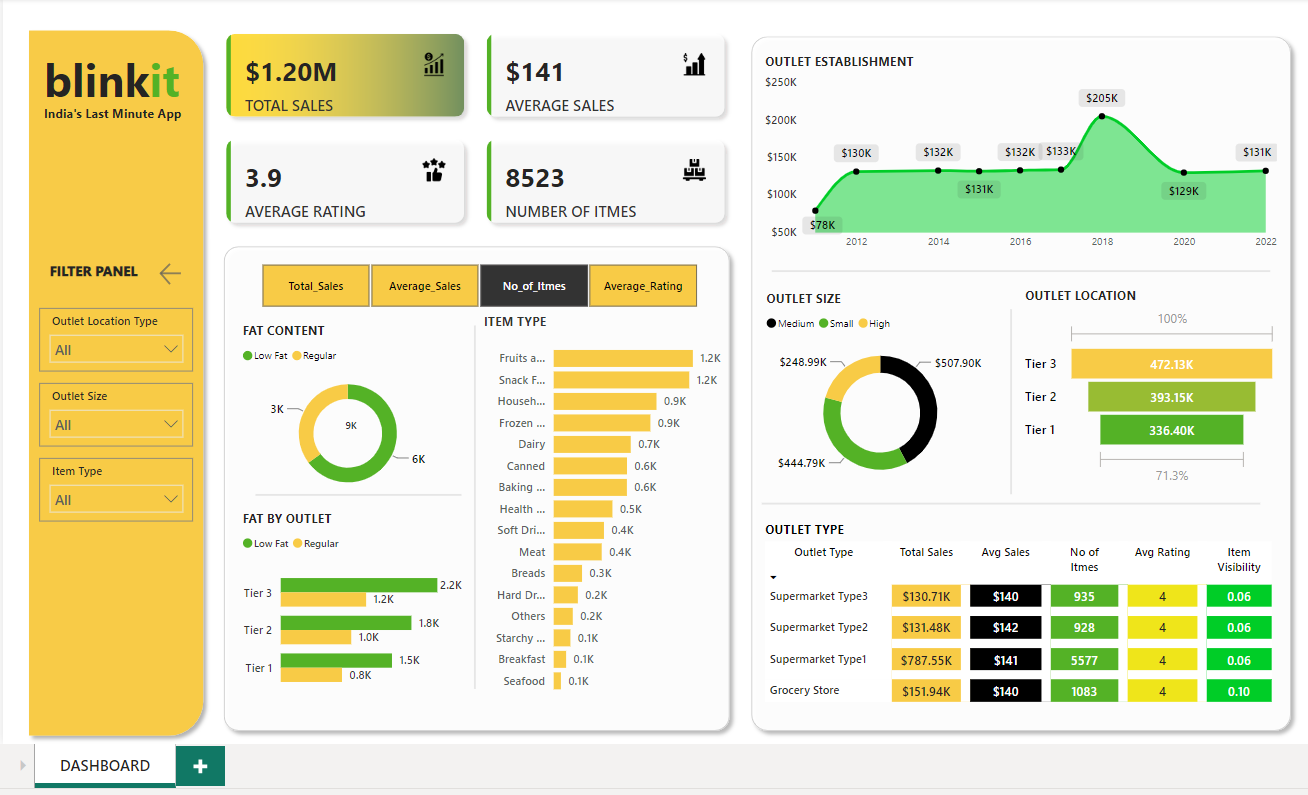

What the dashboard file says about the page in this screenshot:
{"tool":"powerbi","page":{"name":"DASHBOARD","canvas":[1400,800],"ordinal":0},"visuals":[{"type":"shape","box":[18.8,25.5,205,774.5],"z":0},{"type":"textbox","box":[38.9,109.9,164.8,30.8],"z":1000},{"type":"textbox","box":[38.9,49.6,164.8,73.7],"z":2000},{"type":"cardVisual","fields":{"Data":["BlinkIT Grocery Data.Total_Sales","BlinkIT Grocery Data.Average_Sales","BlinkIT Grocery Data.Average_Rating","BlinkIT Grocery Data.No_of_Itmes"]},"box":[222.4,21.4,569.5,237.2],"z":3000},{"type":"shape","box":[227.8,257.3,560.1,537.4],"z":4000},{"type":"donutChart","title":"FAT CONTENT","fields":{"Y":["BlinkIT Grocery Data.No_of_Itmes"],"Category":["BlinkIT Grocery Data.Item Fat Content"]},"box":[251.9,347.1,235.8,194.3],"z":5000},{"type":"slicer","fields":{"Values":["Metrics.Metrics"]},"box":[251.9,278.7,515.9,59],"z":6000},{"type":"cardVisual","fields":{"Data":["BlinkIT Grocery Data.No_of_Itmes"]},"box":[343,432.8,60.3,48.2],"z":7000},{"type":"clusteredBarChart","title":"FAT BY OUTLET","fields":{"Y":["BlinkIT Grocery Data.No_of_Itmes"],"Category":["BlinkIT Grocery Data.Outlet Location Type"],"Series":["BlinkIT Grocery Data.Item Fat Content"]},"box":[251.9,548.1,245.2,207.7],"z":8000},{"type":"shape","box":[270.7,517.3,221.1,30.8],"z":9000},{"type":"shape","box":[491.8,351.1,28.1,389.9],"z":10000},{"type":"barChart","title":"ITEM TYPE","fields":{"Y":["BlinkIT Grocery Data.No_of_Itmes"],"Category":["BlinkIT Grocery Data.Item Type"]},"box":[510.6,337.7,266.7,418.1],"z":11000},{"type":"shape","box":[793.3,32.2,596.3,762.5],"z":12000},{"type":"areaChart","title":"OUTLET ESTABLISHMENT","fields":{"Category":["BlinkIT Grocery Data.Outlet Establishment Year"],"Y":["BlinkIT Grocery Data.Total_Sales"]},"box":[812.1,59,558.8,219.8],"z":13000},{"type":"shape","box":[824.1,277.4,534.7,30.8],"z":14000},{"type":"donutChart","title":"OUTLET SIZE","fields":{"Y":["BlinkIT Grocery Data.Total_Sales"],"Category":["BlinkIT Grocery Data.Outlet Size"]},"box":[813.4,312.2,254.6,219.8],"z":15000},{"type":"funnel","title":"OUTLET LOCATION","fields":{"Category":["BlinkIT Grocery Data.Outlet Location Type"],"Y":["Sum(BlinkIT Grocery Data.Sales)"]},"box":[1090.8,309.5,280.1,218.4],"z":16000},{"type":"shape","box":[1066.7,333.7,28.1,198.3],"z":17000},{"type":"shape","box":[813.4,526.6,534.7,30.8],"z":18000},{"type":"pivotTable","title":"OUTLET TYPE","fields":{"Rows":["BlinkIT Grocery Data.Outlet Type"],"Values":["BlinkIT Grocery Data.Total_Sales","BlinkIT Grocery Data.Average_Sales","BlinkIT Grocery Data.No_of_Itmes","BlinkIT Grocery Data.Average_Rating","Avg(BlinkIT Grocery Data.Item Visibility)"]},"box":[812.1,560.1,558.8,215.7],"z":19000},{"type":"slicer","fields":{"Values":["BlinkIT Grocery Data.Outlet Location Type"]},"box":[38.9,332.3,164.8,68.3],"z":20000},{"type":"slicer","fields":{"Values":["BlinkIT Grocery Data.Outlet Size"]},"box":[38.9,412.7,164.8,68.3],"z":21000},{"type":"slicer","fields":{"Values":["BlinkIT Grocery Data.Item Type"]},"box":[38.9,493.1,164.8,68.3],"z":22000},{"type":"textbox","box":[38.9,277.4,116.6,44.2],"z":23000},{"type":"actionButton","box":[155.4,278.7,48.2,34.8],"z":24000}]}

Visuals, with their boxes on the page's 1400x800 design canvas (x1, y1, x2, y2). These are canvas units, not pixel positions in the 1308x795 screenshot, which may show the page scaled, cropped or inside an application window:
shape: l=19, t=26, r=224, b=800
textbox: l=39, t=110, r=204, b=141
textbox: l=39, t=50, r=204, b=123
cardVisual - BlinkIT Grocery Data.Total_Sales x BlinkIT Grocery Data.Average_Sales: l=222, t=21, r=792, b=259
shape: l=228, t=257, r=788, b=795
"FAT CONTENT" donutChart: l=252, t=347, r=488, b=541
slicer - Metrics.Metrics: l=252, t=279, r=768, b=338
cardVisual - BlinkIT Grocery Data.No_of_Itmes: l=343, t=433, r=403, b=481
"FAT BY OUTLET" clusteredBarChart: l=252, t=548, r=497, b=756
shape: l=271, t=517, r=492, b=548
shape: l=492, t=351, r=520, b=741
"ITEM TYPE" barChart: l=511, t=338, r=777, b=756
shape: l=793, t=32, r=1390, b=795
"OUTLET ESTABLISHMENT" areaChart: l=812, t=59, r=1371, b=279
shape: l=824, t=277, r=1359, b=308
"OUTLET SIZE" donutChart: l=813, t=312, r=1068, b=532
"OUTLET LOCATION" funnel: l=1091, t=310, r=1371, b=528
shape: l=1067, t=334, r=1095, b=532
shape: l=813, t=527, r=1348, b=557
"OUTLET TYPE" pivotTable: l=812, t=560, r=1371, b=776
slicer - BlinkIT Grocery Data.Outlet Location Type: l=39, t=332, r=204, b=401
slicer - BlinkIT Grocery Data.Outlet Size: l=39, t=413, r=204, b=481
slicer - BlinkIT Grocery Data.Item Type: l=39, t=493, r=204, b=561
textbox: l=39, t=277, r=156, b=322
actionButton: l=155, t=279, r=204, b=314
